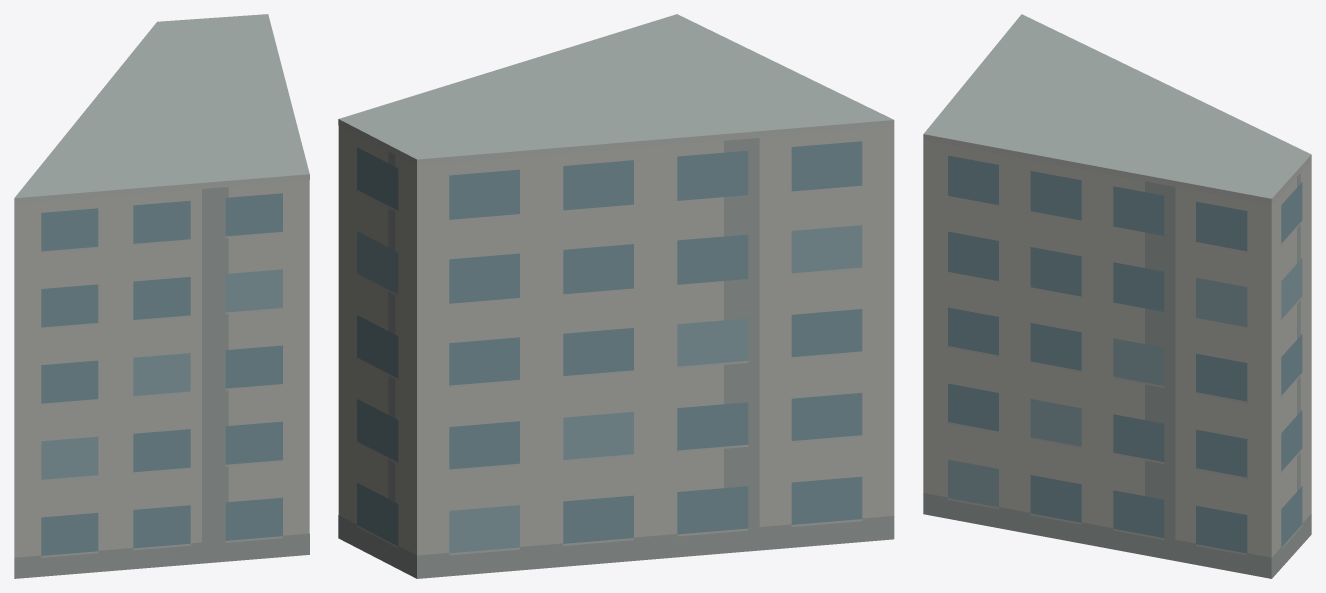
Rendered from residential-982b6ca8-e90d-4f46-88e3-cc08535dd97f.glb.
3 views of the same model, side by side, from view 1: azimuth 30°, elevation 25°; view 2: azimuth 150°, elevation 25°; view 3: azimuth 270°, elevation 25° (orthographic). The views are drawn at different scales.
Parts seen in each view (by area): view 1: residential-982b6ca8-e90d-4f46-88e3-cc08535dd97f.tmp; view 2: residential-982b6ca8-e90d-4f46-88e3-cc08535dd97f.tmp; view 3: residential-982b6ca8-e90d-4f46-88e3-cc08535dd97f.tmp.
Part boxes in pixels (x1,y1,x2,y2): residential-982b6ca8-e90d-4f46-88e3-cc08535dd97f.tmp: [14, 14, 309, 578]; residential-982b6ca8-e90d-4f46-88e3-cc08535dd97f.tmp: [338, 14, 894, 578]; residential-982b6ca8-e90d-4f46-88e3-cc08535dd97f.tmp: [923, 14, 1311, 578].
Bounding box in the file's own units: 15.91 × 15.25 × 14.13.
